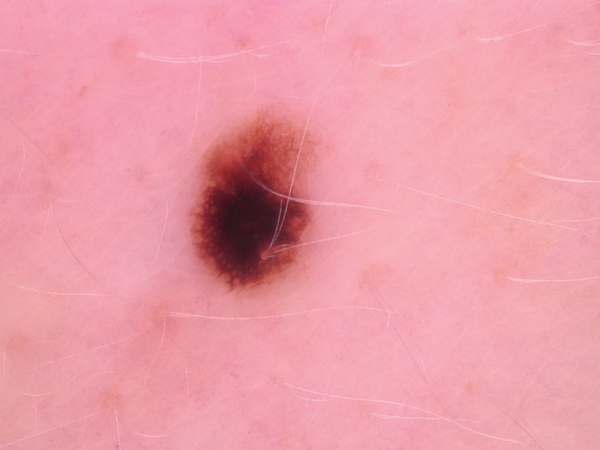Detected Lesion: (187, 109, 319, 295)
